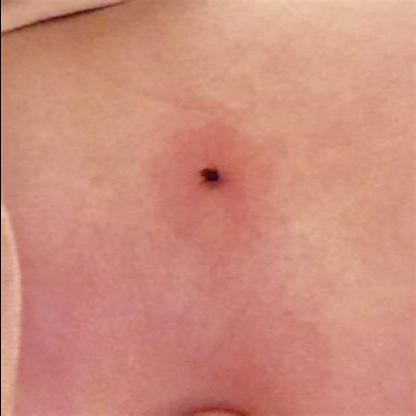Tick: (167, 140, 242, 218)
